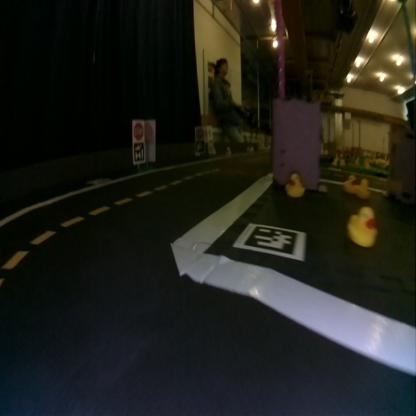Duckie: (348, 206, 377, 245), (286, 172, 302, 196), (342, 174, 356, 192), (358, 178, 369, 194)
QR code: (235, 223, 305, 259), (132, 143, 144, 161), (195, 140, 202, 152)
Stop sign: (133, 121, 143, 139), (195, 126, 203, 138)
